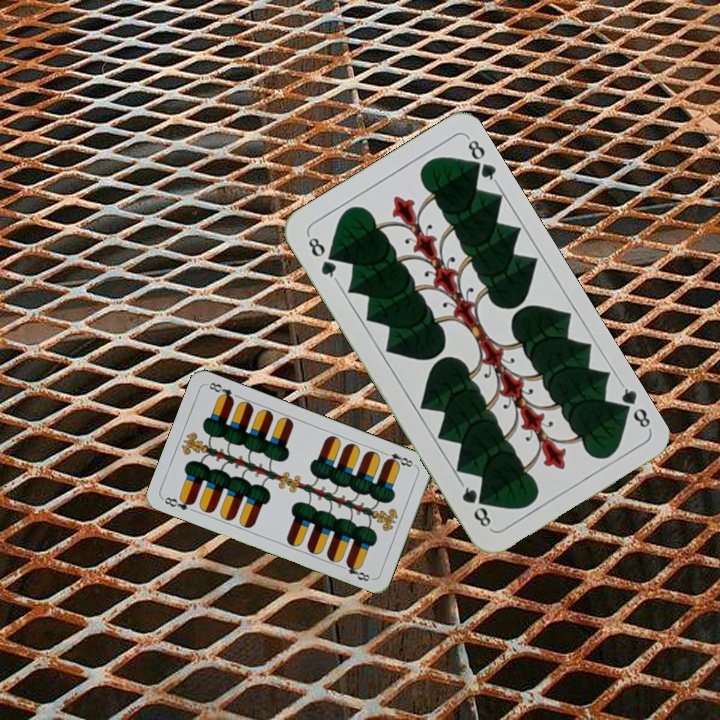E8: (379, 448, 418, 470), (159, 492, 197, 513)
G8: (612, 379, 654, 432), (304, 231, 341, 284)
